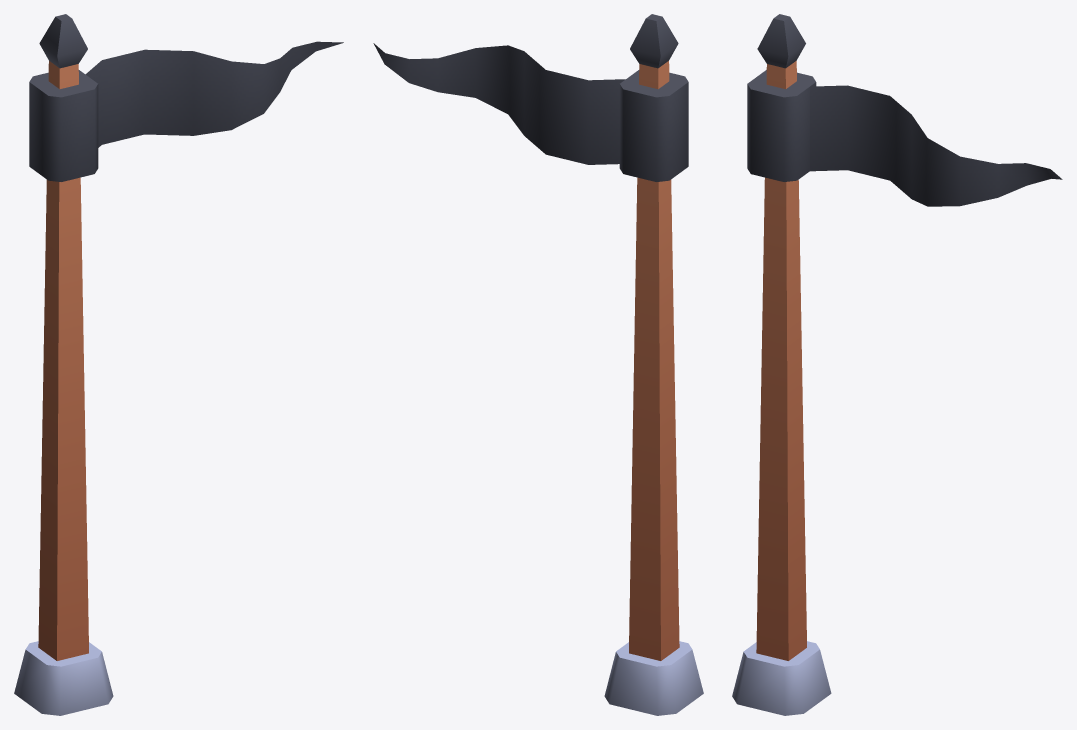
Rendered from flag_pirate_high_pennant.glb.
The picture shows the model from 3 angles, left to right: view 1: azimuth 30°, elevation 25°; view 2: azimuth 150°, elevation 25°; view 3: azimuth 330°, elevation 25°; orthographic projection.
Visible parts, largest first — view 1: flag-pirate-high-pennant; view 2: flag-pirate-high-pennant; view 3: flag-pirate-high-pennant.
Boxes of the visible parts, x1=… form: flag-pirate-high-pennant: x1=14, y1=14, x2=343, y2=715; flag-pirate-high-pennant: x1=373, y1=14, x2=703, y2=715; flag-pirate-high-pennant: x1=732, y1=14, x2=1062, y2=715.
Size of the model in its own units: 1.76 by 3.6 by 0.3989.
Materials: 1 (1 with a texture image).
